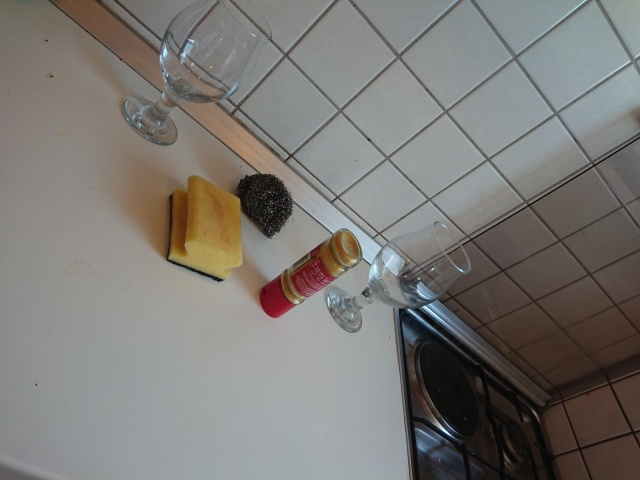Kotanyi Curry Spices Mix 70g: (257, 226, 365, 321)
